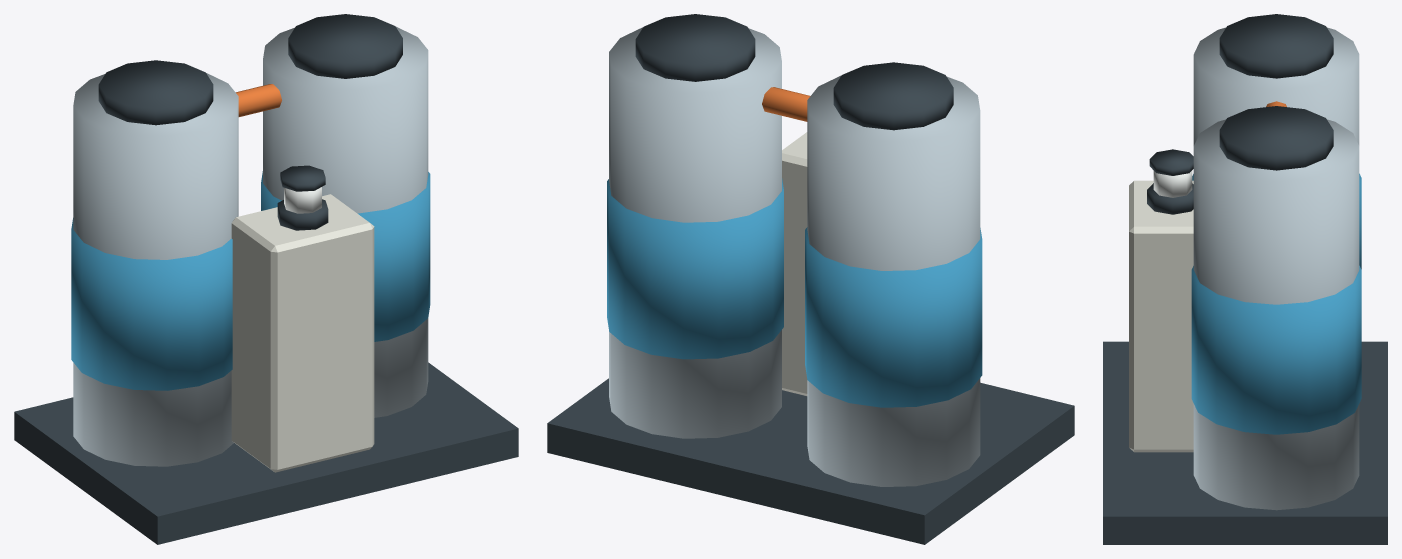
File: recycler.glb
3 views of the same model, side by side, from view 1: azimuth 30°, elevation 25°; view 2: azimuth 150°, elevation 25°; view 3: azimuth 270°, elevation 25° (orthographic). The views are drawn at different scales.
Visible parts, largest first — view 1: Recycler, Lamp.002; view 2: Recycler; view 3: Recycler, Lamp.002.
Part boxes in pixels (x1,y1,x2,y2): Recycler: (14,14,518,544); Lamp.002: (277,165,328,230); Recycler: (547,14,1074,544); Recycler: (1103,14,1387,544); Lamp.002: (1147,149,1193,214).
Bounding box in the file's own units: 1.6 × 1.59 × 1.1.
